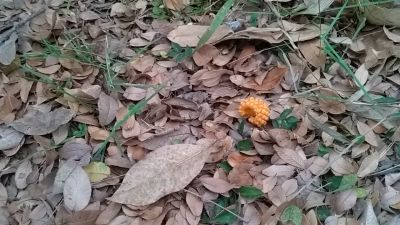eggs: (239, 94, 272, 126)
